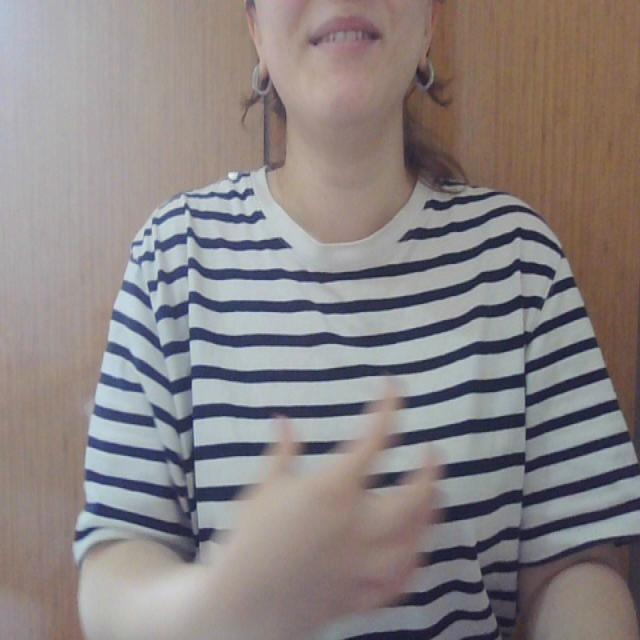Anne: (172, 363, 534, 628)
